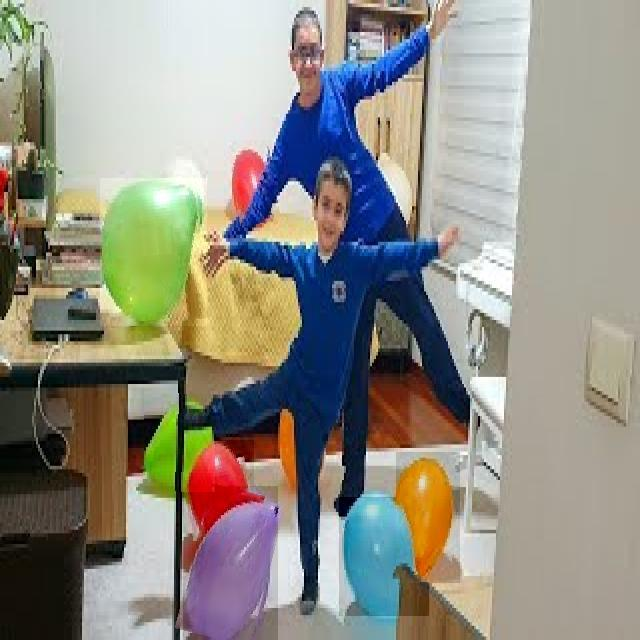balloon: (100, 178, 207, 326), (183, 486, 278, 640), (339, 497, 429, 616), (396, 452, 460, 583), (180, 440, 254, 539), (144, 394, 215, 492), (230, 140, 277, 225)
